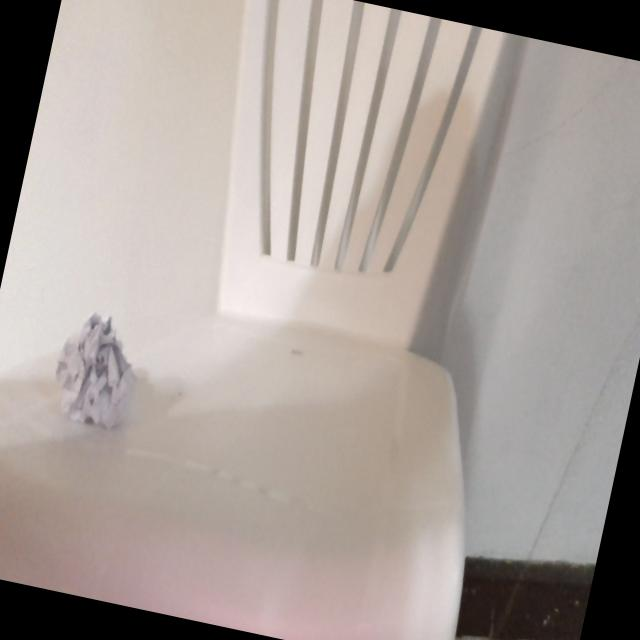crumpled_paper: (41, 301, 153, 442)
